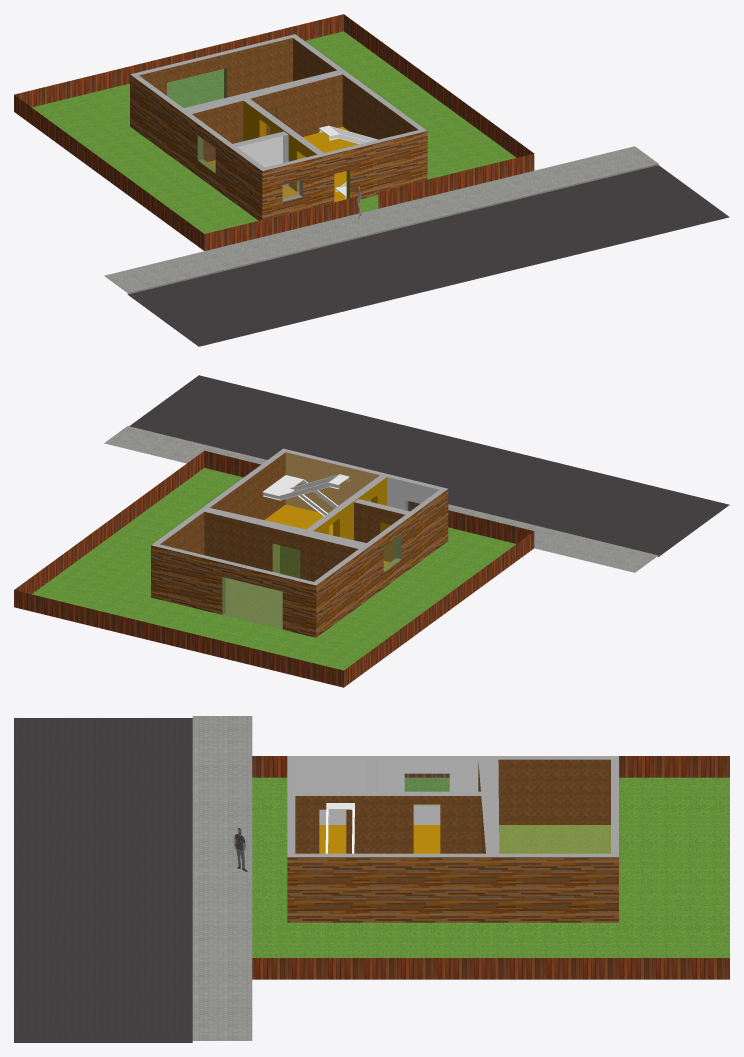
Rendered from GruppeA.glb.
3 renders of one model, top to bottom at view 1: azimuth 30°, elevation 25°; view 2: azimuth 150°, elevation 25°; view 3: azimuth 270°, elevation 25°, orthographic. The views are drawn at different scales.
Visible parts, largest first — view 1: ID532, ID545, SketchUp, ID566, ID519, ID592, ID579, ID558, ID627, ID600, ID643, ID697 (+1 smaller); view 2: ID532, ID545, SketchUp, ID566, ID579, ID519, ID681, ID558, ID635, ID627, ID697, ID592 (+4 smaller); view 3: ID532, ID545, ID566, ID519, SketchUp, ID592, ID579, ID606, ID558, ID681, ID600, ID627 (+1 smaller).
Part boxes in pixels (x1=…): ID532: x1=128, y1=165, x2=729, y2=346; ID545: x1=32, y1=31, x2=516, y2=233; SketchUp: x1=14, y1=14, x2=534, y2=250; ID566: x1=130, y1=74, x2=427, y2=220; ID519: x1=104, y1=146, x2=658, y2=294; ID592: x1=250, y1=74, x2=418, y2=139; ID579: x1=139, y1=38, x2=336, y2=97; ID558: x1=130, y1=34, x2=426, y2=170; ID627: x1=208, y1=101, x2=358, y2=202; ID600: x1=184, y1=70, x2=341, y2=154; ID643: x1=192, y1=100, x2=243, y2=161; ID697: x1=167, y1=69, x2=223, y2=107; ID532: x1=129, y1=375, x2=729, y2=556; ID545: x1=32, y1=468, x2=516, y2=670; SketchUp: x1=14, y1=450, x2=534, y2=687; ID566: x1=151, y1=489, x2=448, y2=637; ID579: x1=160, y1=512, x2=358, y2=581; ID519: x1=104, y1=426, x2=658, y2=572; ID681: x1=222, y1=543, x2=300, y2=629; ID558: x1=151, y1=448, x2=447, y2=585; ID635: x1=285, y1=452, x2=379, y2=512; ID627: x1=264, y1=477, x2=395, y2=566; ID697: x1=222, y1=577, x2=282, y2=628; ID592: x1=210, y1=452, x2=285, y2=519; ID532: x1=14, y1=718, x2=192, y2=1042; ID545: x1=252, y1=777, x2=729, y2=957; ID566: x1=287, y1=857, x2=618, y2=922; ID519: x1=192, y1=716, x2=252, y2=1040; SketchUp: x1=252, y1=756, x2=729, y2=979; ID592: x1=295, y1=796, x2=485, y2=853; ID579: x1=498, y1=759, x2=610, y2=824; ID606: x1=295, y1=759, x2=478, y2=824; ID558: x1=287, y1=756, x2=618, y2=857; ID681: x1=499, y1=825, x2=610, y2=853; ID600: x1=295, y1=759, x2=499, y2=853; ID627: x1=319, y1=825, x2=440, y2=853.
Size of the model in its own units: 32.2 by 3.3 by 29.98.
93 materials, 12 textured.
